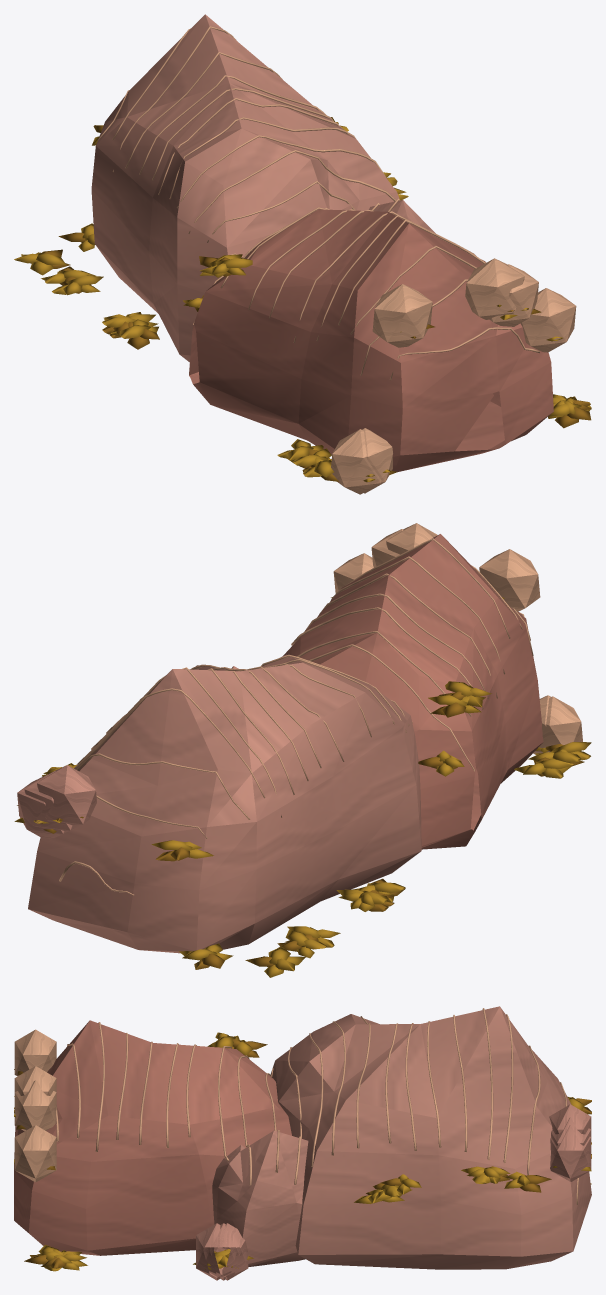
Rendered from PilotRidgeN_2.fbx.
The picture shows the model from 3 angles, top to bottom: view 1: azimuth 30°, elevation 25°; view 2: azimuth 150°, elevation 25°; view 3: azimuth 270°, elevation 25°; orthographic projection. The views are drawn at different scales.
Parts seen in each view (by area): view 1: PilotRidgeN_2__Geometry; view 2: PilotRidgeN_2__Geometry; view 3: PilotRidgeN_2__Geometry.
Boxes of the visible parts, x1,y1,x2,y2 form: PilotRidgeN_2__Geometry: [14, 14, 591, 494]; PilotRidgeN_2__Geometry: [14, 523, 591, 977]; PilotRidgeN_2__Geometry: [14, 1006, 591, 1280].
Size of the model in its own units: 2 by 1.74 by 4.
